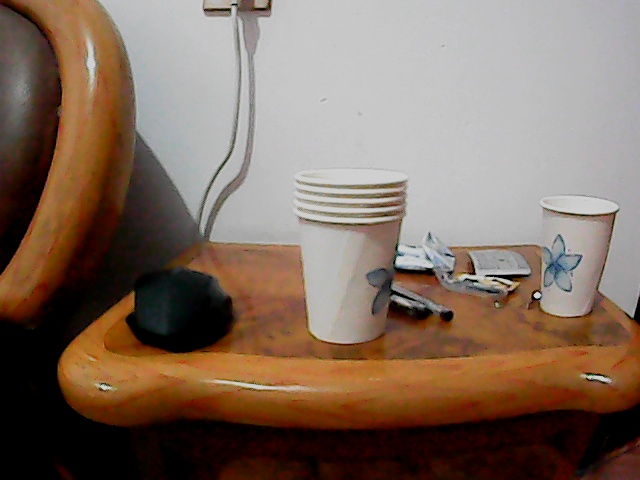cup: (293, 164, 402, 344)
mouse: (124, 262, 237, 351)
